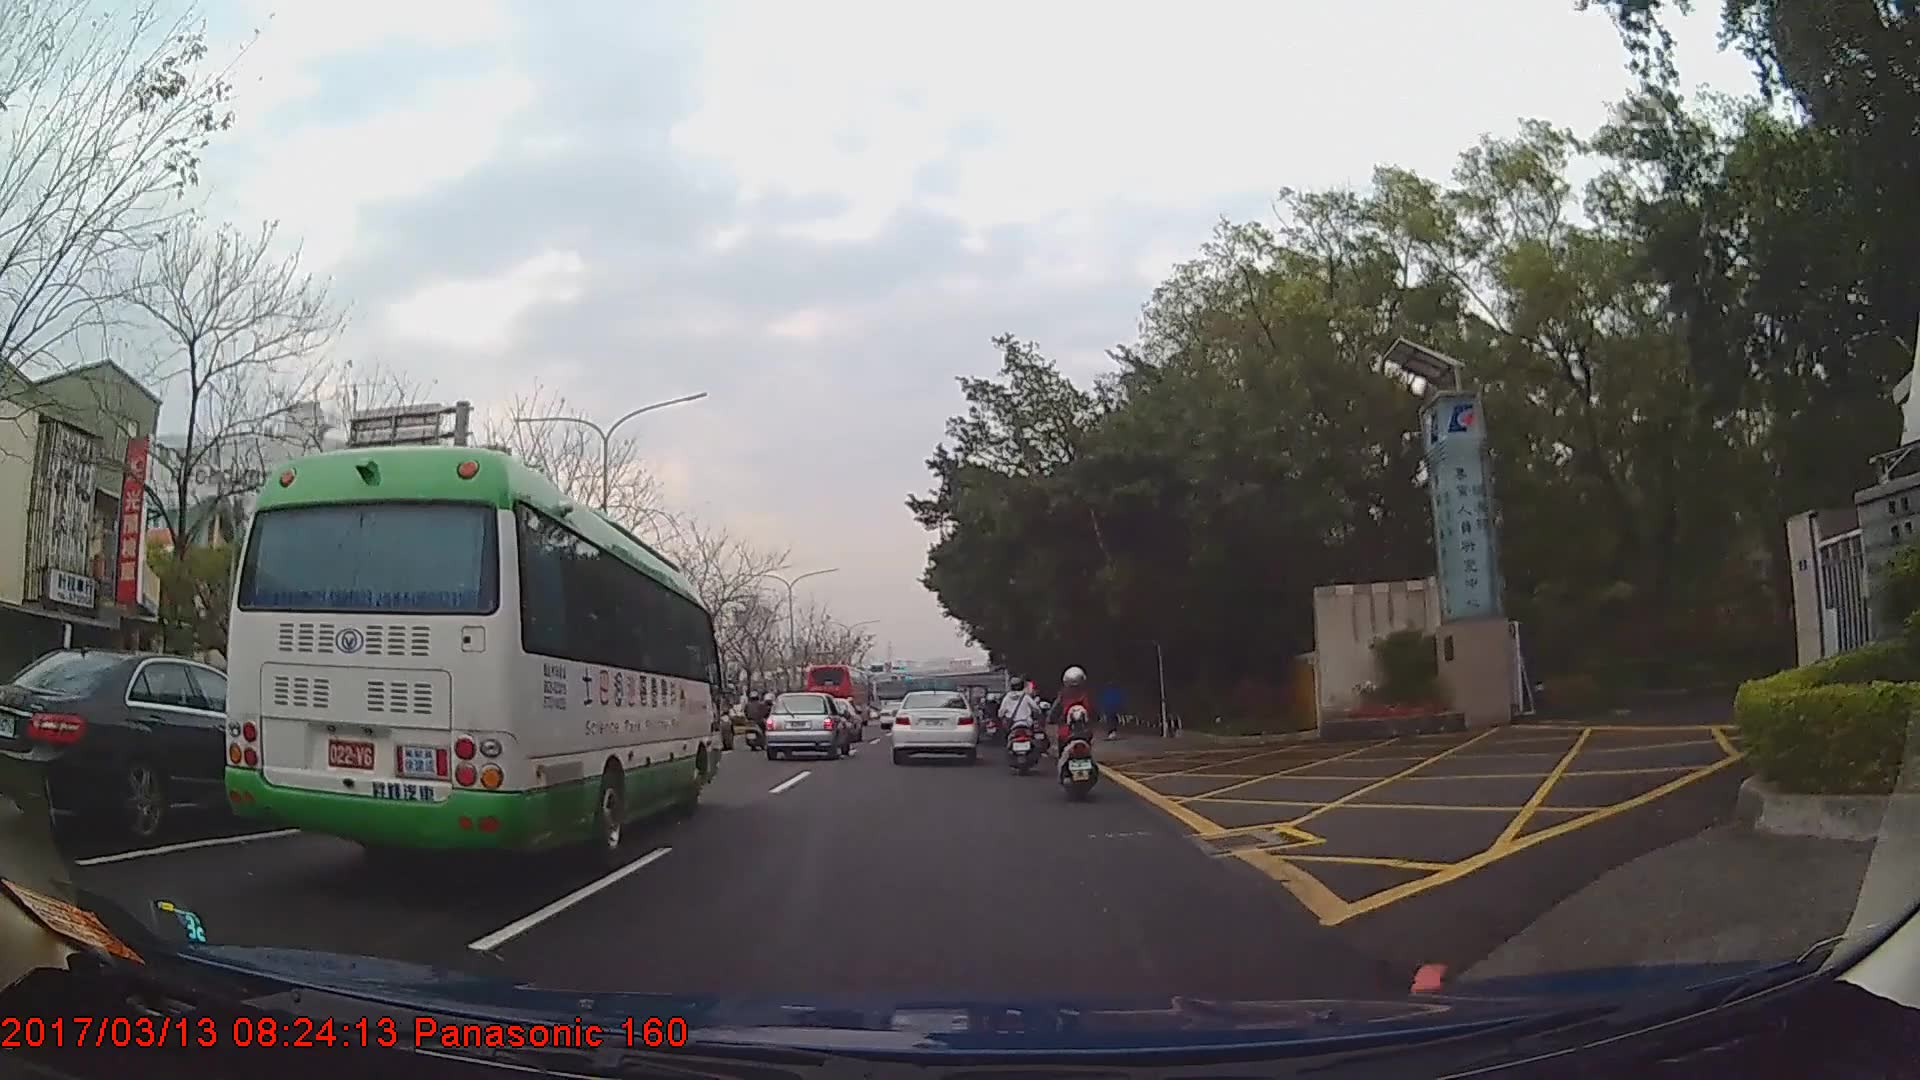pedestrian: (1097, 675, 1123, 740)
rider: (1052, 664, 1100, 804), (997, 680, 1041, 778), (1026, 695, 1048, 755), (746, 689, 772, 743)
vehicle: (222, 441, 721, 863), (0, 645, 330, 842), (888, 687, 977, 763), (762, 688, 852, 759), (803, 661, 871, 727)
